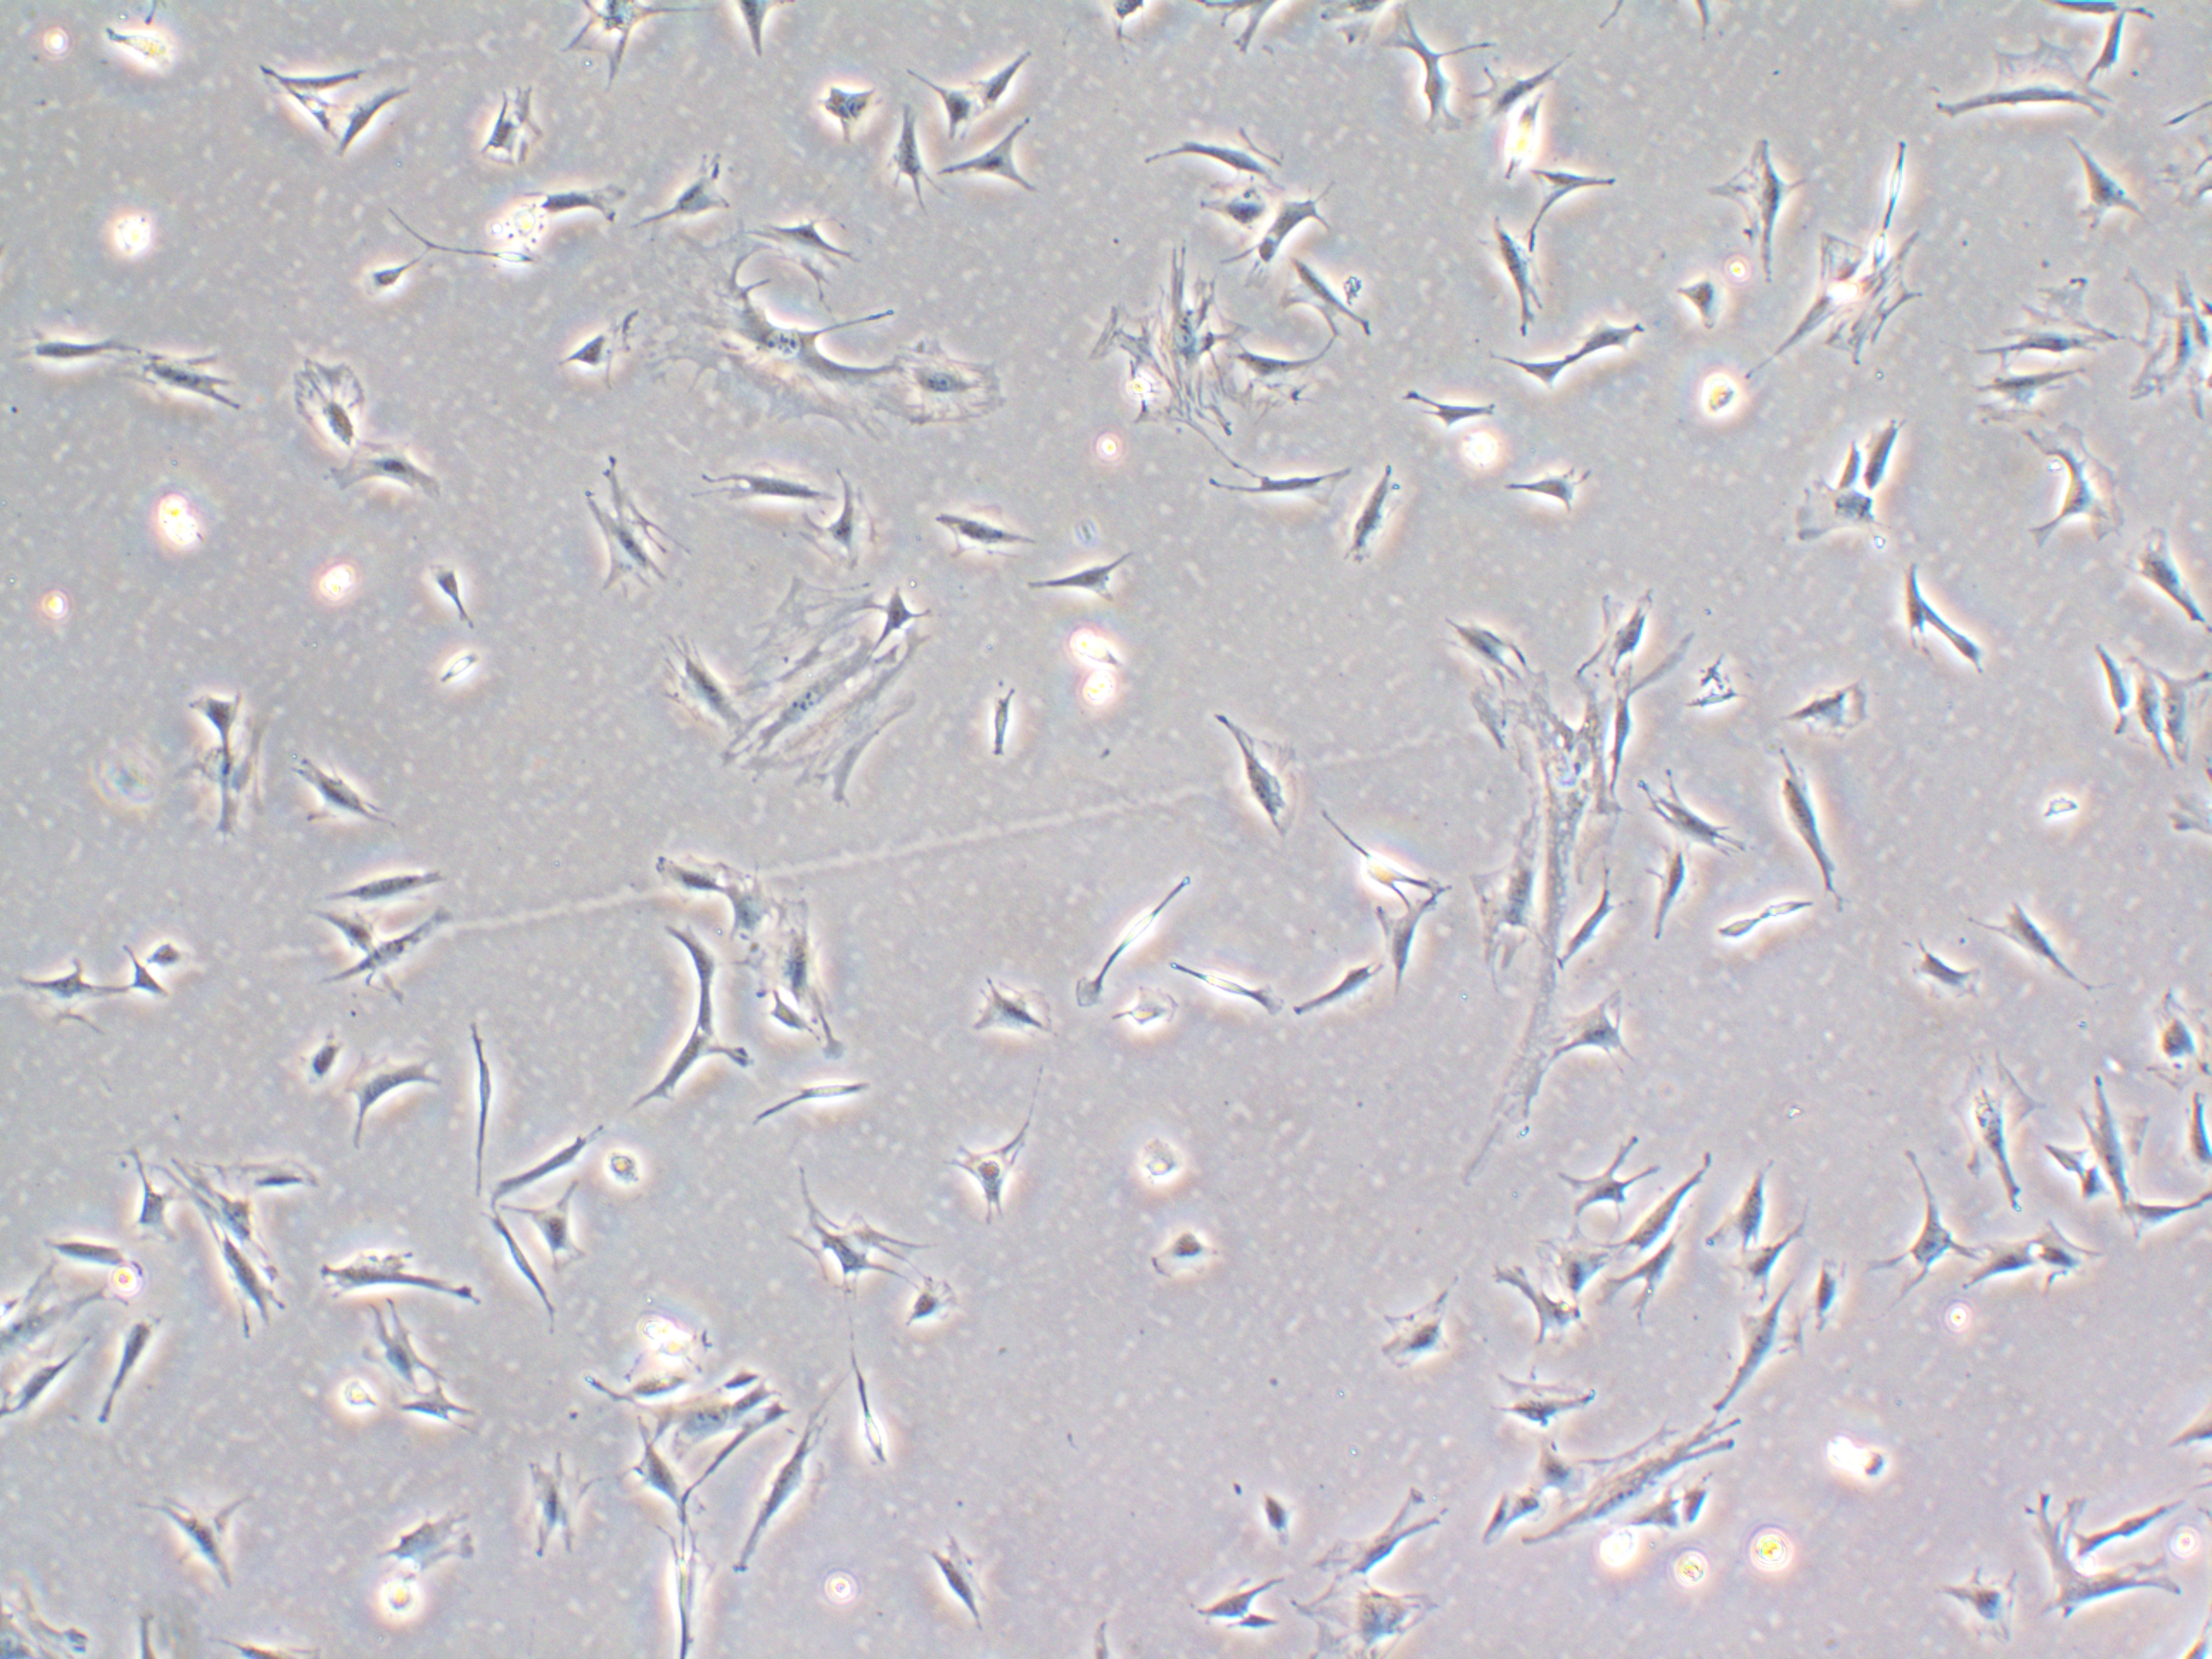Etc: (418, 652, 498, 709)
polygonal: (728, 1370, 850, 1595), (1752, 735, 1879, 932), (1935, 1049, 2050, 1234), (1705, 118, 1818, 284), (1865, 1147, 1982, 1300), (1555, 552, 1670, 708), (1707, 1270, 1817, 1422), (1611, 1127, 1726, 1267), (1211, 713, 1313, 868), (1966, 889, 2118, 993), (319, 904, 469, 1004), (1543, 1114, 1658, 1243), (343, 1040, 460, 1166), (143, 1483, 260, 1608), (911, 1521, 1029, 1643), (183, 1209, 280, 1354), (493, 1110, 639, 1206), (1580, 1211, 1686, 1342), (277, 742, 409, 845), (89, 1309, 192, 1441), (1190, 455, 1360, 532), (1916, 586, 2029, 701), (296, 897, 408, 1014), (2050, 118, 2161, 235), (160, 1154, 280, 1262), (2116, 519, 2212, 653), (1273, 246, 1393, 350), (1139, 120, 1313, 192), (1376, 17, 1460, 162), (2071, 1058, 2155, 1202), (941, 118, 1066, 214), (1696, 1147, 1792, 1269), (17, 950, 146, 1040), (1536, 990, 1648, 1094), (1637, 774, 1752, 875), (124, 336, 256, 423), (636, 139, 756, 234), (1470, 207, 1559, 335), (1338, 457, 1425, 586), (1019, 528, 1162, 606), (1460, 45, 1599, 125), (693, 1396, 799, 1500), (1357, 1290, 1463, 1394), (1278, 939, 1392, 1037), (1475, 1352, 1602, 1438), (773, 63, 892, 153), (331, 66, 442, 162), (1602, 640, 1662, 816), (1251, 181, 1350, 286), (1512, 1218, 1629, 1307), (0, 1324, 94, 1434), (683, 450, 831, 519), (904, 491, 1040, 566), (625, 1023, 742, 1110), (881, 106, 965, 225), (449, 1016, 500, 1211), (319, 443, 460, 512), (941, 1121, 1031, 1229), (512, 1185, 599, 1297), (1721, 1204, 1818, 1303), (1548, 868, 1639, 974), (1226, 338, 1338, 422), (212, 1136, 340, 1209), (1764, 674, 1897, 744), (1357, 901, 1435, 1018), (2106, 1197, 2212, 1283), (254, 45, 390, 112), (953, 974, 1075, 1047), (888, 61, 996, 141), (1529, 152, 1629, 239), (1958, 1222, 2050, 1314), (336, 1297, 442, 1377), (671, 1377, 784, 1452), (326, 852, 465, 911), (1630, 835, 1700, 953), (1165, 1565, 1306, 1622), (1881, 544, 1947, 666), (1425, 606, 1540, 676), (639, 838, 740, 915), (108, 1150, 186, 1246), (2038, 1216, 2114, 1312), (615, 1420, 695, 1511), (30, 1222, 152, 1281), (650, 913, 733, 999), (972, 30, 1050, 120), (5, 328, 155, 375), (1489, 460, 1595, 525), (1860, 410, 1925, 516), (972, 678, 1038, 777), (1386, 383, 1503, 439), (1904, 938, 1994, 1007), (529, 166, 634, 225), (899, 1276, 982, 1349), (1482, 335, 1587, 392), (1514, 1434, 1599, 1504), (1794, 1244, 1851, 1338), (186, 676, 254, 753), (413, 556, 498, 617), (381, 1385, 481, 1438), (348, 249, 434, 308), (554, 312, 629, 378), (139, 929, 223, 985), (1672, 261, 1735, 335), (2158, 1091, 2212, 1175), (110, 941, 174, 1009), (1578, 308, 1651, 361), (1825, 429, 1867, 504)
small-round: (1116, 1121, 1190, 1202), (1146, 1220, 1233, 1286), (1109, 983, 1179, 1049), (280, 1021, 345, 1093)
spread: (644, 234, 906, 444), (728, 577, 941, 814), (1087, 244, 1258, 437), (1493, 680, 1615, 938), (1764, 223, 1930, 378), (860, 329, 1014, 432), (737, 890, 840, 1032), (279, 347, 381, 474)
